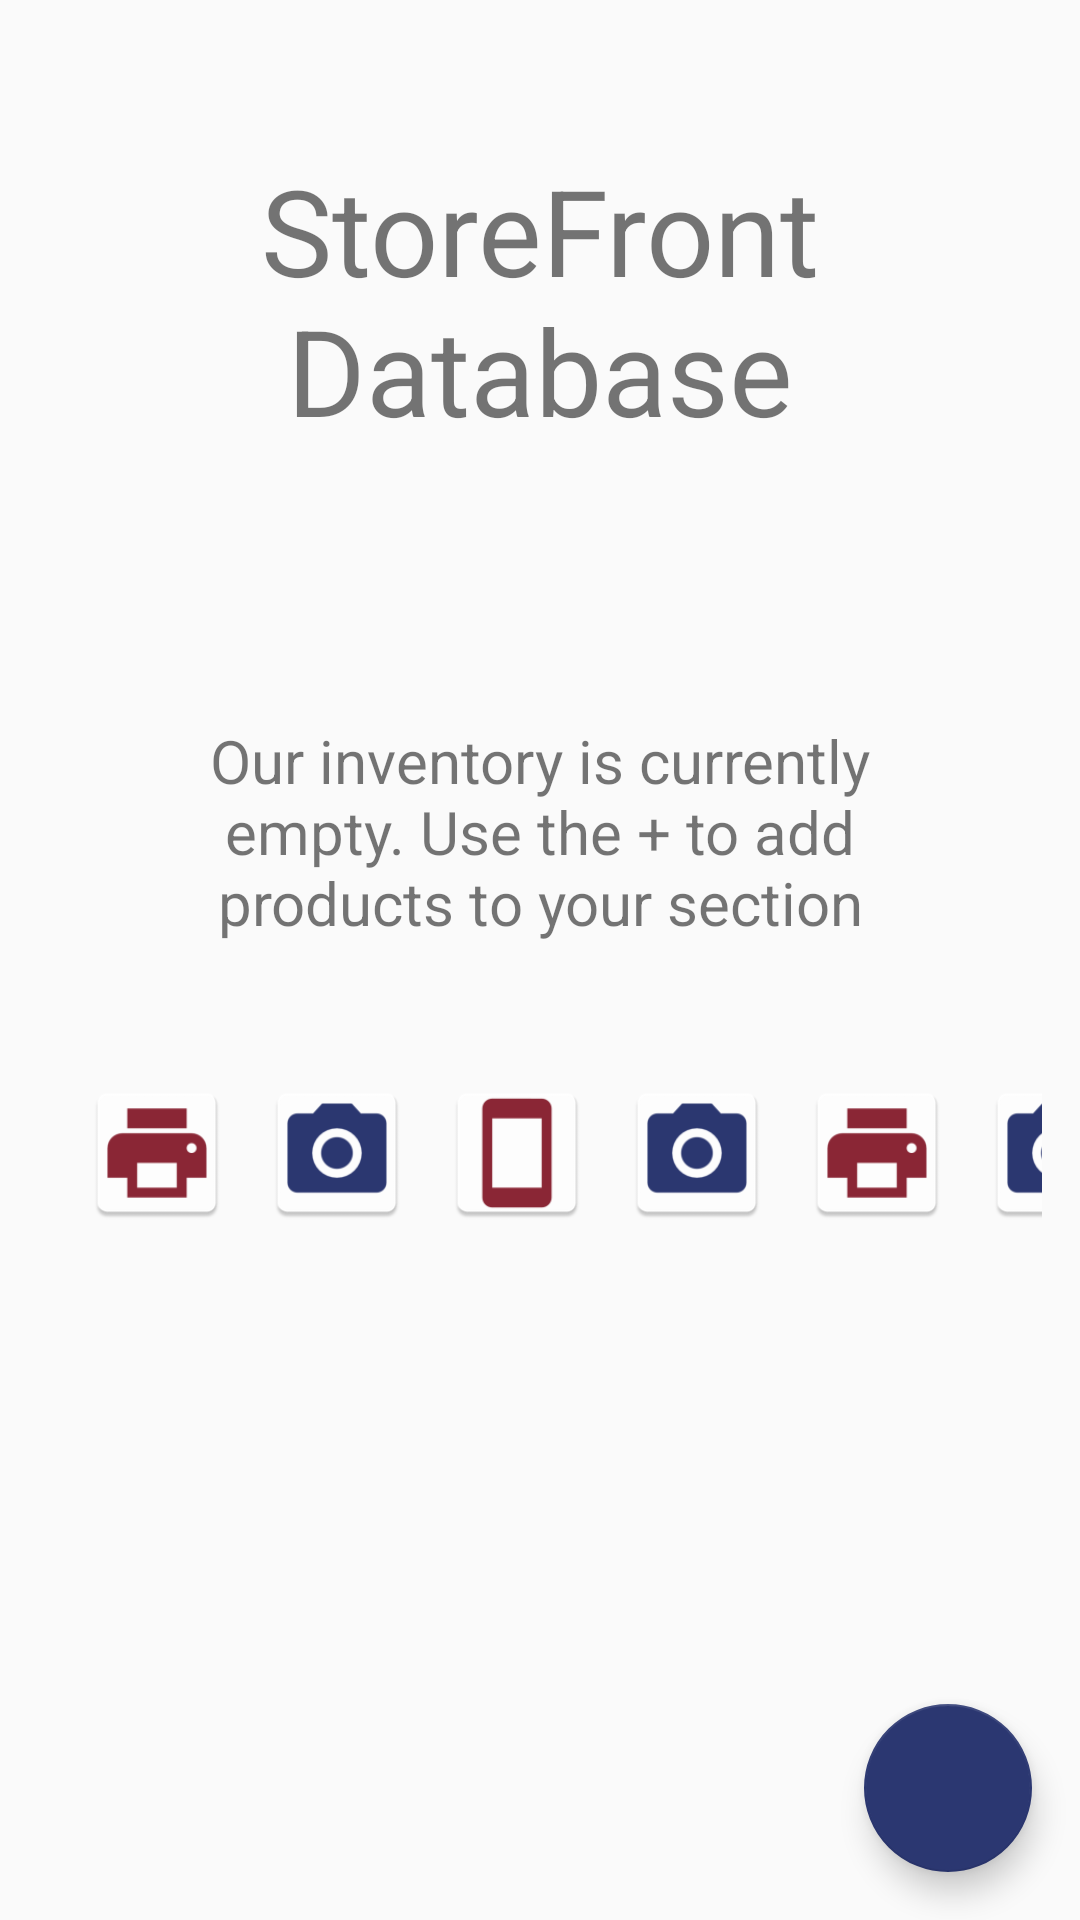

Where to tap for icons on this 1080×1920 app screen, as [x,y]:
phone: [517,1157]
printer: [157,1160], [877,1160]
